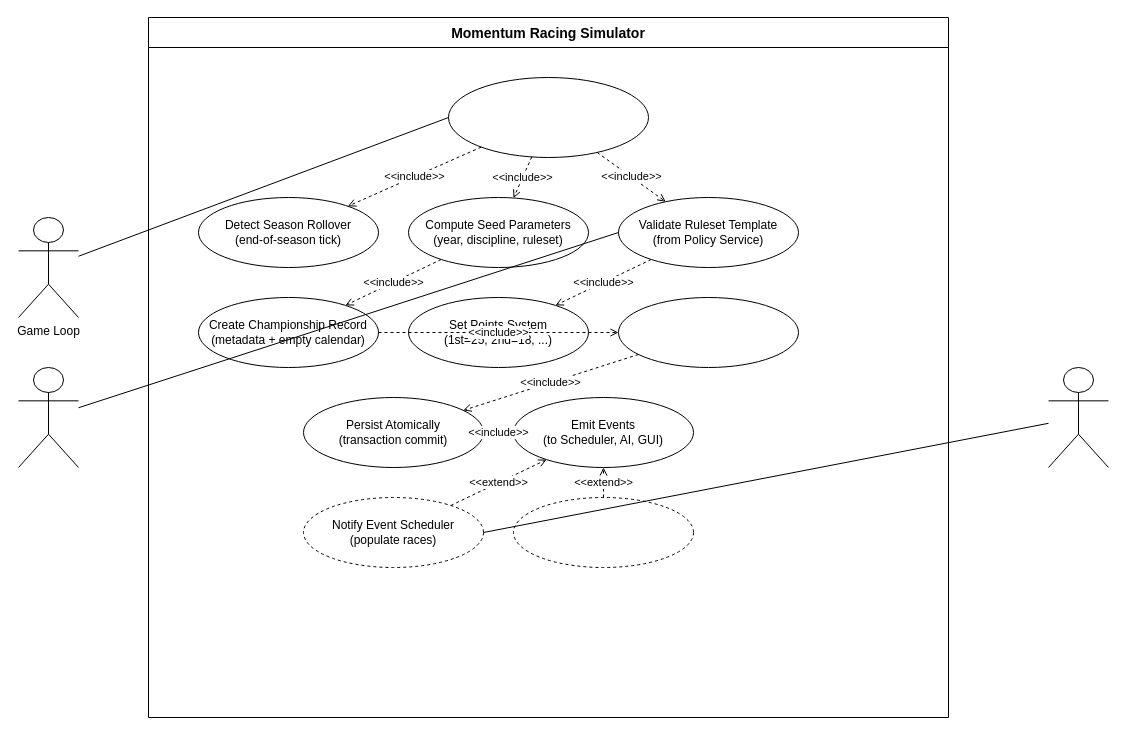
The diagram is 1126 pixels wide and 735 high, and some of its shapes have lost their labels. The shapes that lost their labels are listed below. From the top down, each one's box as (x1, y1, x2, y2) in pixels, then its label:
(448, 76, 648, 158): Create Championship (Season Rollover)
(618, 296, 798, 368): Initialize Empty Calendar (placeholder for races)
(18, 366, 78, 468): Policy Service
(1048, 366, 1108, 468): Event Scheduler
(512, 496, 694, 568): Notify AI Service (populate participants)
